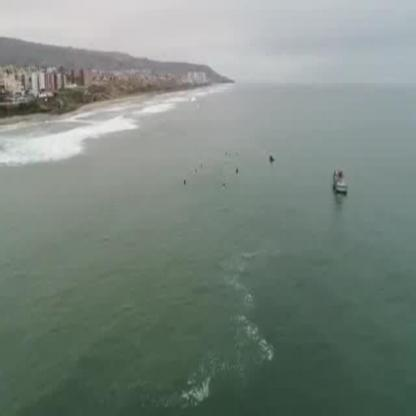Boat: (328, 166, 352, 196)
